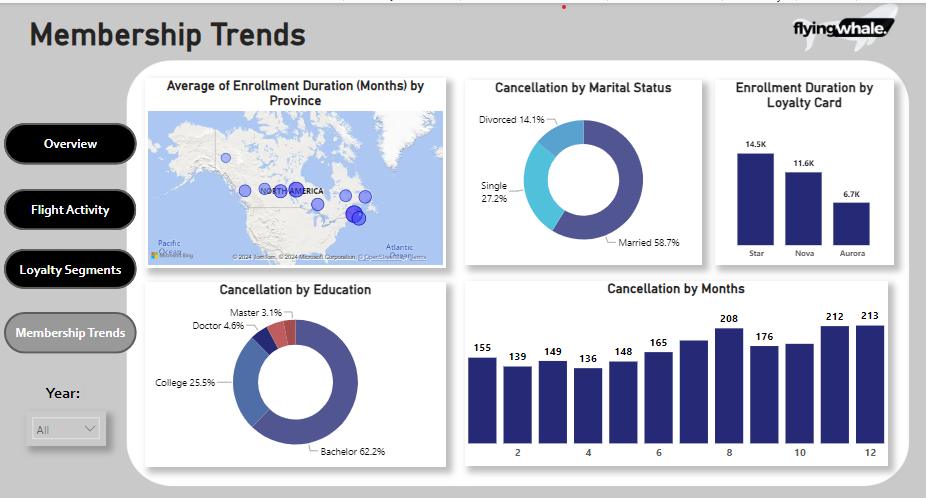

This screenshot's page, from the dashboard's own definition file:
{"tool":"powerbi","page":{"name":"Membership Trends","canvas":[1430,768],"ordinal":3},"visuals":[{"type":"textbox","title":"Company Title","box":[40,14,644,68],"z":0},{"type":"actionButton","title":"Membership Trend","box":[6,473.8,203.8,63.8],"z":0,"group":"g2"},{"type":"slicer","title":"Year Slicer","fields":{"Values":["Customer Loyalty Cancellation.Cancellation Year"]},"box":[40,626.6,123.3,53.3],"z":0,"group":"g1"},{"type":"actionButton","title":"Loyalty Segment","box":[6,377.5,203.8,61.2],"z":1000,"group":"g2"},{"type":"group","id":"g1","title":"Year","box":[40,578.3,123.3,101.7],"z":1000},{"type":"textbox","title":"Year Text","box":[65,578.3,73.3,36.7],"z":1000,"group":"g1"},{"type":"group","id":"g2","title":"Pages","box":[6,183.8,204,353.8],"z":2000},{"type":"actionButton","title":"Flight Activity","box":[6.7,285,203.3,63.3],"z":2000,"group":"g2"},{"type":"map","fields":{"Category":["Customer Loyalty Cancellation.Province"],"Size":["Avg(Customer Loyalty Cancellation.Enrollment Duration (Months))"]},"box":[222.2,115.6,462.2,292.2],"z":3000},{"type":"actionButton","title":"Overview","box":[6.3,183.8,203.8,63.8],"z":3000,"group":"g2"},{"type":"columnChart","title":"Cancellation by Months","fields":{"Category":["Customer Loyalty Cancellation.Cancellation Month"],"Y":["CountNonNull(Customer Loyalty Cancellation.Loyalty Number)"]},"box":[714.3,427.1,658.6,284.3],"z":4000},{"type":"donutChart","title":"Cancellation by Education","fields":{"Category":["Customer Loyalty Cancellation.Education"],"Y":["CountNonNull(Customer Loyalty Cancellation.Loyalty Number)"]},"box":[222.2,427.8,462.2,284.4],"z":5000},{"type":"donutChart","title":"Cancellation by Marital Status","fields":{"Y":["CountNonNull(Customer Loyalty Cancellation.Loyalty Number)"],"Category":["Customer Loyalty Cancellation.Marital Status"]},"box":[715,118.8,363.8,283.8],"z":6000},{"type":"columnChart","title":"Enrollment Duration by Loyalty Card","fields":{"Y":["Sum(Customer Loyalty Cancellation.Enrollment Duration (Months))"],"Category":["Customer Loyalty Cancellation.Loyalty Card"]},"box":[1097.5,118.8,275,283.8],"z":8001}]}

Visuals, with their boxes on the page's 1430x768 design canvas (x1, y1, x2, y2). These are canvas units, not pixel positions in the 926x498 screenshot, which may show the page scaled, cropped or inside an application window:
"Company Title" textbox: {"left": 40, "top": 14, "right": 684, "bottom": 82}
"Membership Trend" actionButton: {"left": 6, "top": 474, "right": 210, "bottom": 538}
"Year Slicer" slicer: {"left": 40, "top": 627, "right": 163, "bottom": 680}
"Loyalty Segment" actionButton: {"left": 6, "top": 378, "right": 210, "bottom": 439}
"Year" group: {"left": 40, "top": 578, "right": 163, "bottom": 680}
"Year Text" textbox: {"left": 65, "top": 578, "right": 138, "bottom": 615}
"Pages" group: {"left": 6, "top": 184, "right": 210, "bottom": 538}
"Flight Activity" actionButton: {"left": 7, "top": 285, "right": 210, "bottom": 348}
map - Customer Loyalty Cancellation.Province x Avg(Customer Loyalty Cancellation.Enrollment Duration (Months)): {"left": 222, "top": 116, "right": 684, "bottom": 408}
"Overview" actionButton: {"left": 6, "top": 184, "right": 210, "bottom": 248}
"Cancellation by Months" columnChart: {"left": 714, "top": 427, "right": 1373, "bottom": 711}
"Cancellation by Education" donutChart: {"left": 222, "top": 428, "right": 684, "bottom": 712}
"Cancellation by Marital Status" donutChart: {"left": 715, "top": 119, "right": 1079, "bottom": 403}
"Enrollment Duration by Loyalty Card" columnChart: {"left": 1098, "top": 119, "right": 1372, "bottom": 403}
